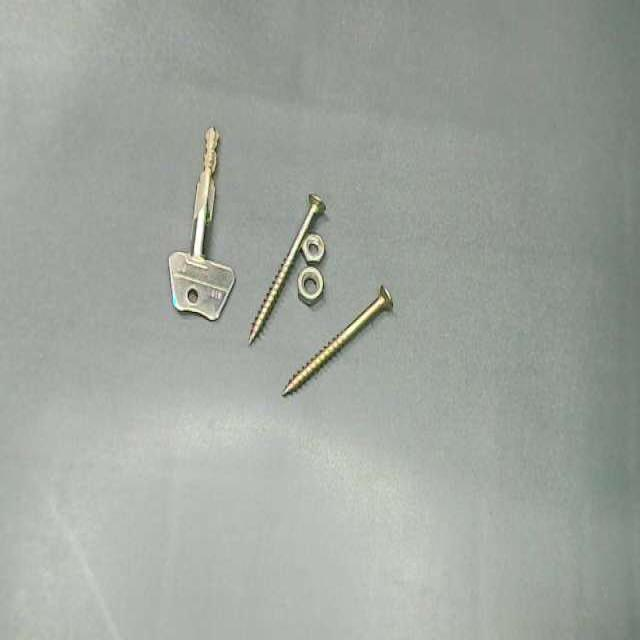Parafuso: (282, 286, 392, 395), (249, 194, 325, 343)
Porca: (297, 267, 323, 305), (301, 234, 326, 264)
